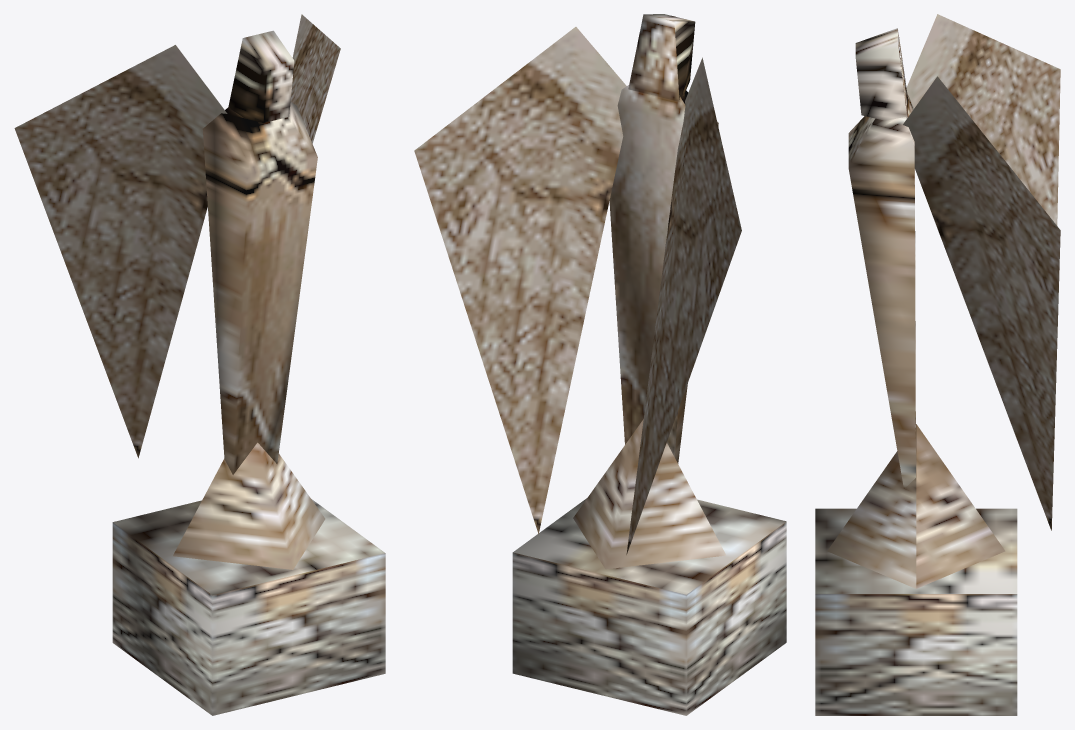
The model's file is Environment - Prop - Statue Angel - PMStatueA.glb.
3 views of the same model, side by side, from view 1: azimuth 30°, elevation 25°; view 2: azimuth 150°, elevation 25°; view 3: azimuth 270°, elevation 25° (orthographic).
Visible parts, largest first — view 1: PMSTATUEA; view 2: PMSTATUEA; view 3: PMSTATUEA.
Boxes of the visible parts, x1,y1,x2,y2 form: PMSTATUEA: (14, 14, 385, 715); PMSTATUEA: (414, 14, 786, 715); PMSTATUEA: (815, 14, 1060, 715).
Size of the model in its own units: 11.55 by 21.32 by 7.44.
Materials: 1 (1 with a texture image).
